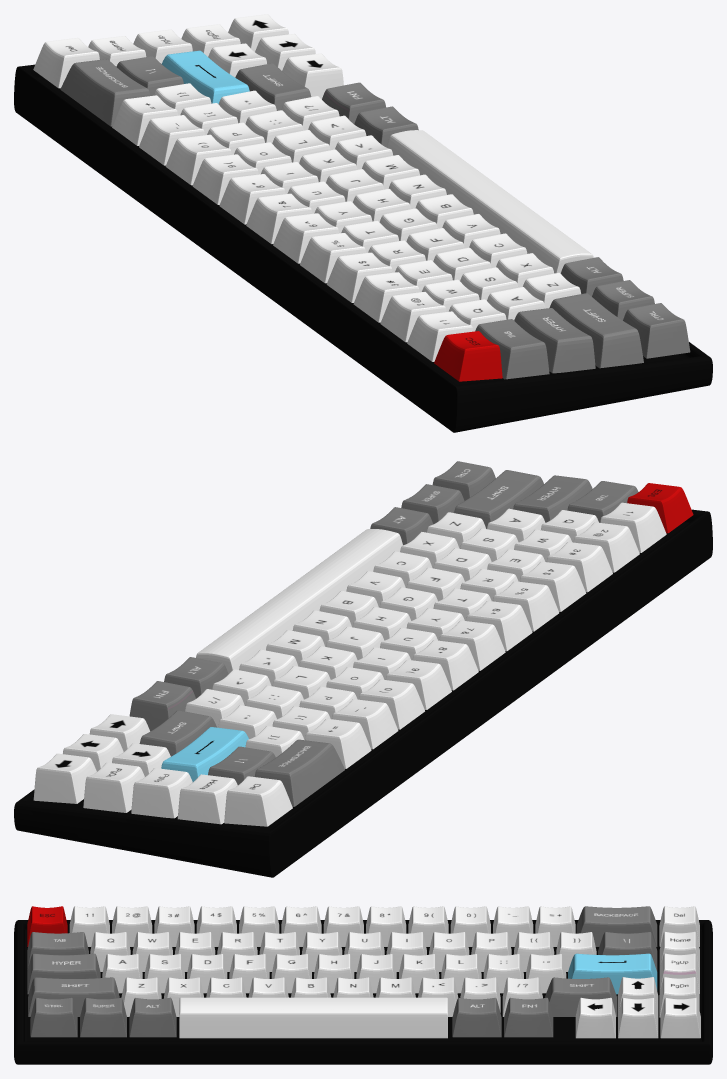
File: 60_Keyboard_2_minimalist.glb
The picture shows the model from 3 angles, top to bottom: view 1: azimuth 30°, elevation 25°; view 2: azimuth 150°, elevation 25°; view 3: azimuth 270°, elevation 25°; orthographic projection. The views are drawn at different scales.
Parts seen in each view (by area): view 1: Plane; view 2: Plane; view 3: Plane.
Boxes of the visible parts, left/top/right/bottom form: Plane: left=14, top=14, right=712, bottom=432; Plane: left=14, top=461, right=712, bottom=877; Plane: left=14, top=906, right=712, bottom=1064.
Size of the model in its own units: 4.25 by 1.38 by 12.64.
2 materials, 1 textured.
